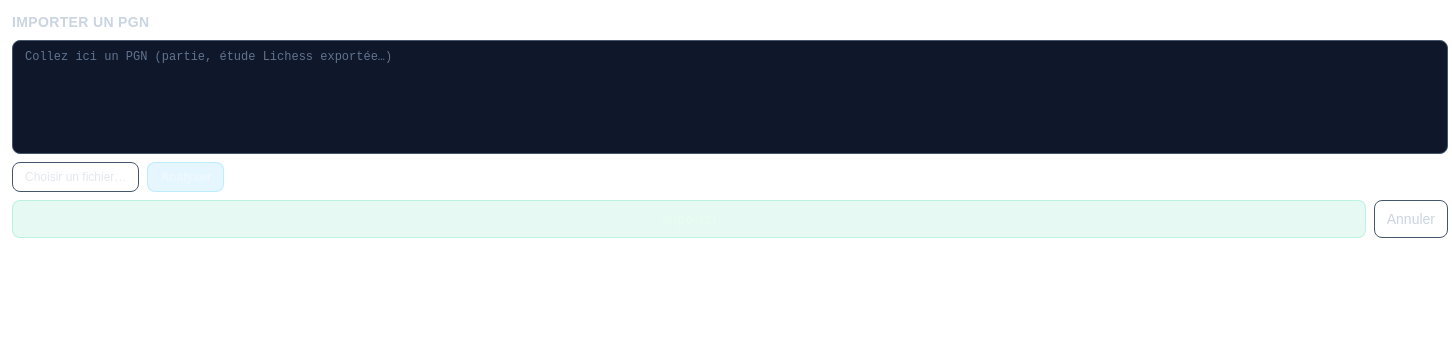
Test: PgnImporter › affiche le message d'erreur renvoyé par la confirmation
In the text box named "Texte PGN": (730, 97) [12,40,1448,154], type "[Event \"Mon 1.e4\"] [Orientation \"black\"] 1. e4 e5 (1... c5 2. Nf3) 2. Nf3 Nc6 *"
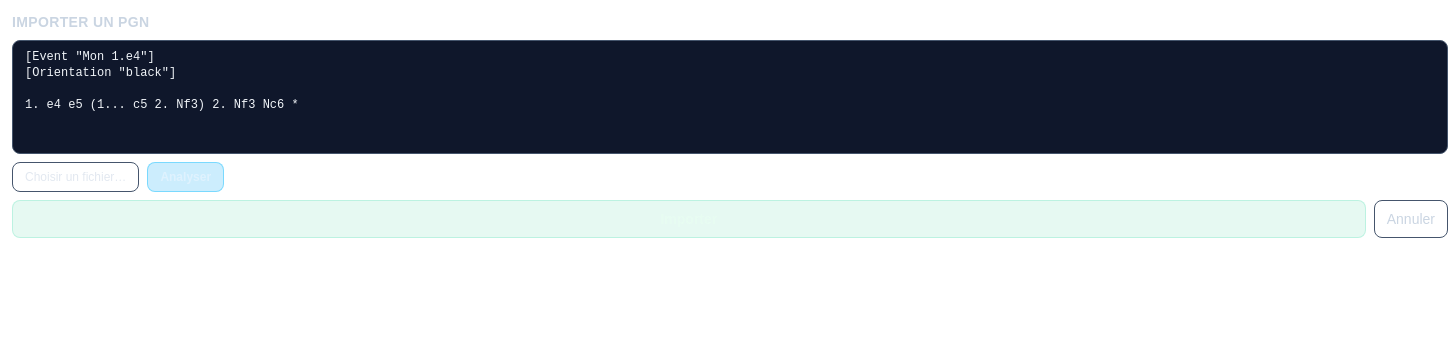
Click the button "Analyser": (186, 177) [147,162,224,192]
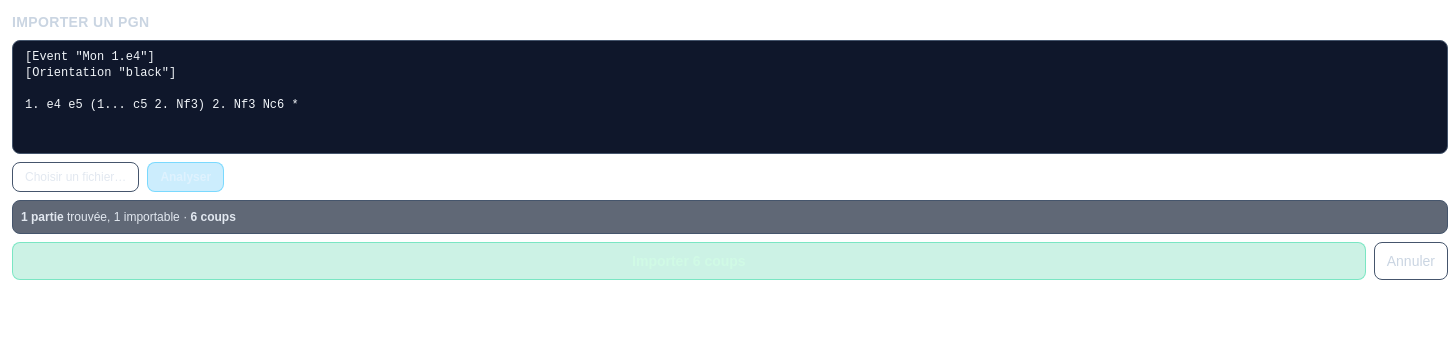
Result: the text "1 partie" is shown at [21,210,64,224]
Click the button "Importer 6 coups": (689, 261) [12,242,1366,280]
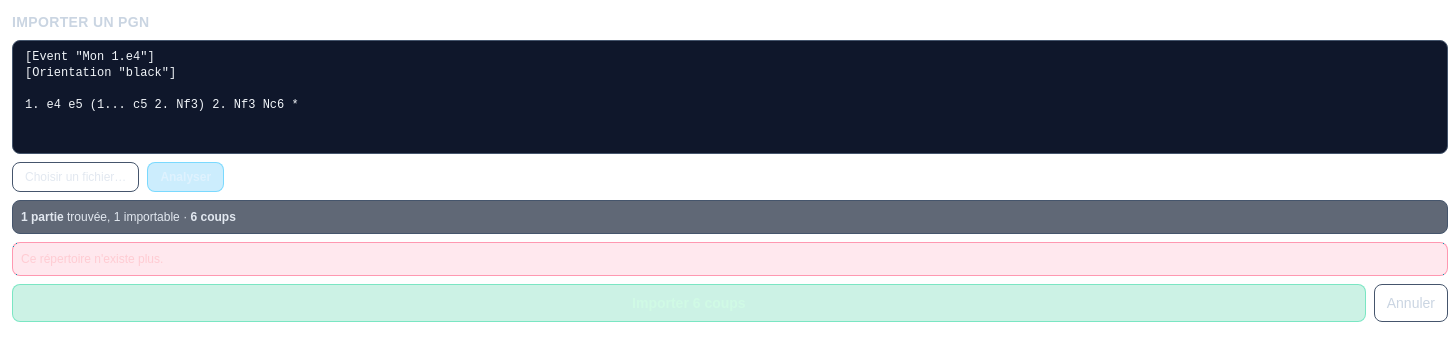
Result: the text "Ce répertoire n'existe plus." is shown at [12,242,1448,276]
